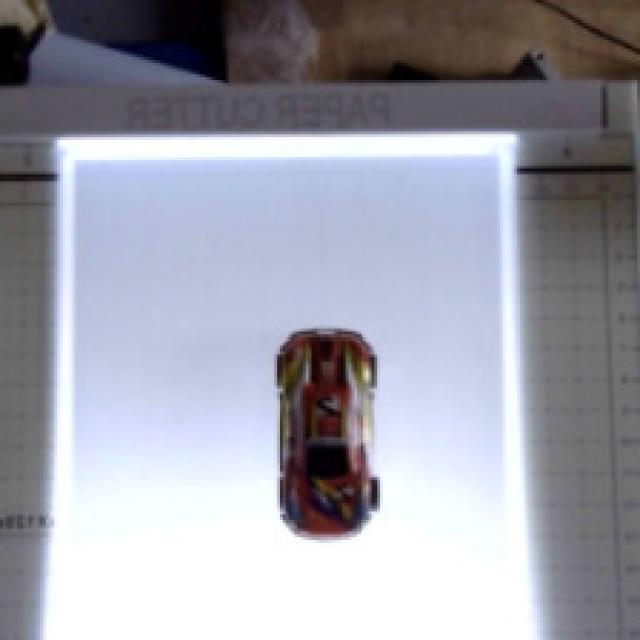Red Car: (213, 277, 441, 559)
